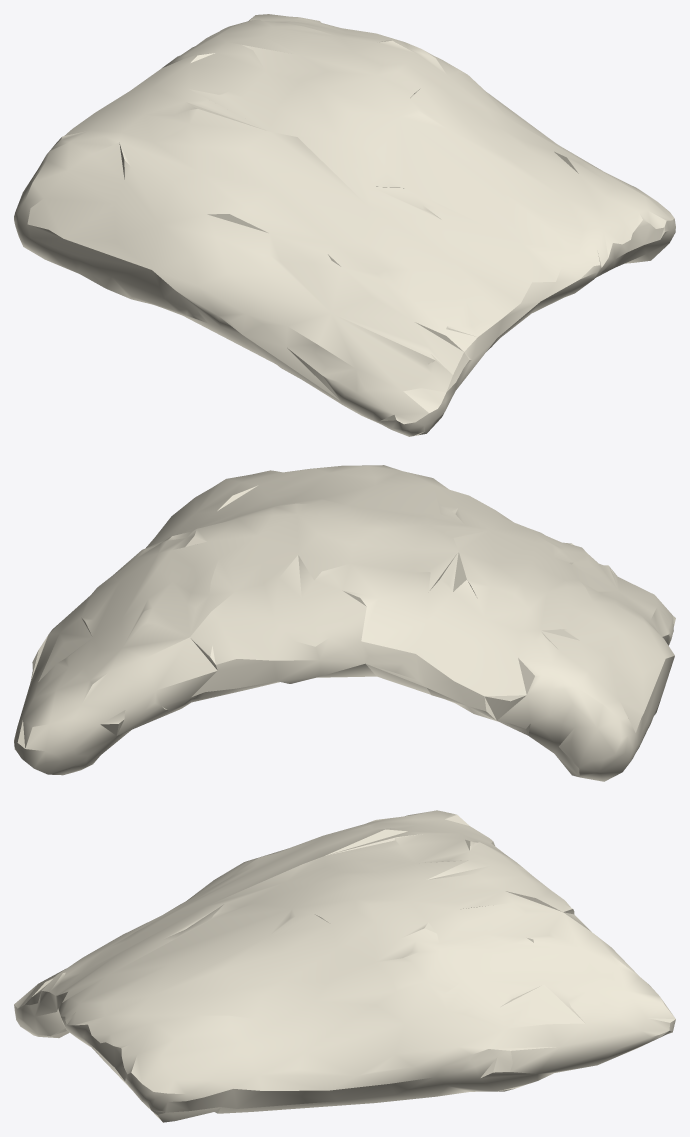
File: fma44218_mm1388.glb
The picture shows the model from 3 angles, top to bottom: view 1: azimuth 30°, elevation 25°; view 2: azimuth 150°, elevation 25°; view 3: azimuth 270°, elevation 25°; orthographic projection. The views are drawn at different scales.
Parts seen in each view (by area): view 1: FMA44218_MM1388; view 2: FMA44218_MM1388; view 3: FMA44218_MM1388.
Boxes of the visible parts, x1,y1,x2,y2 form: FMA44218_MM1388: [14, 14, 675, 436]; FMA44218_MM1388: [14, 465, 675, 781]; FMA44218_MM1388: [14, 810, 675, 1122].
Bounding box in the file's own units: 0.0193 × 0.00758 × 0.0227.
